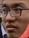without_mask: (1, 1, 29, 38)
